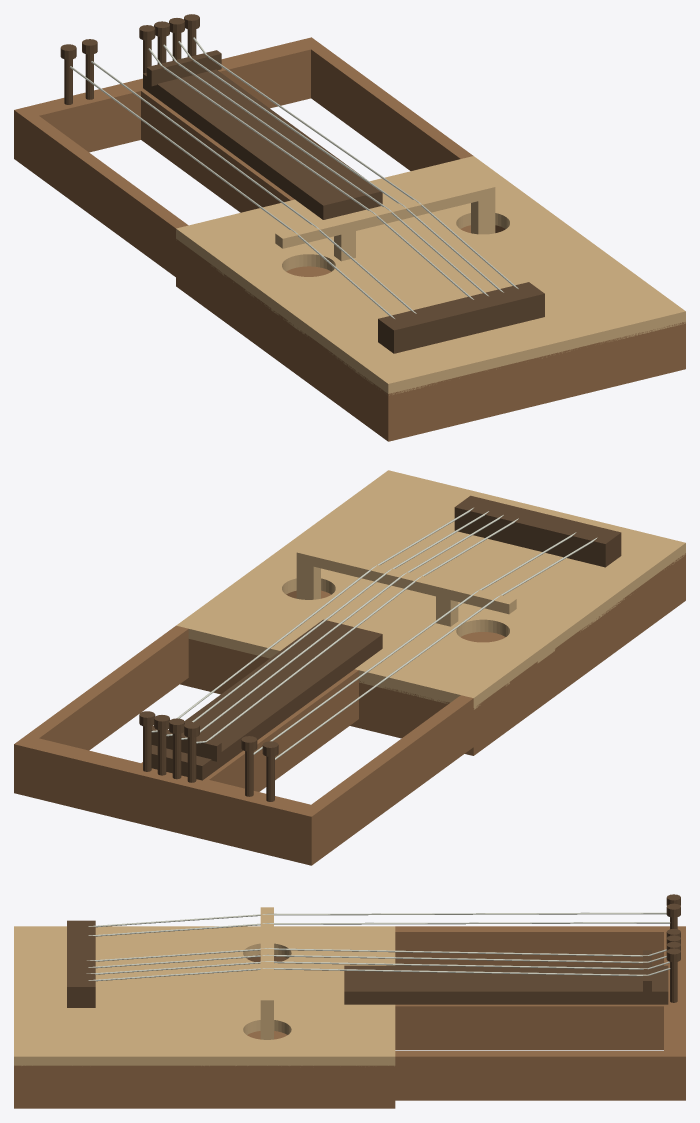
The picture shows the model from 3 angles, top to bottom: view 1: azimuth 30°, elevation 25°; view 2: azimuth 150°, elevation 25°; view 3: azimuth 270°, elevation 25°; orthographic projection. The views are drawn at different scales.
Parts seen in each view (by area): view 1: WholeFlatBackCavitySidesAndWindowNeckFrame, WholeTwoApertureSoundboard, WholeCentralFretlessFingerboard, WholeLowerStringAnchor, WholeBridgeWithOneDescendingThroughHoleFoot, WholeShortUpperNut, WholeContinuousDisplayString_4, WholeContinuousDisplayString_1, WholeContinuousDisplayString_2, WholeContinuousDisplayString_3, WholeContinuousDisplayString_5, WholeContinuousDisplayString_0 (+1 smaller); view 2: WholeFlatBackCavitySidesAndWindowNeckFrame, WholeTwoApertureSoundboard, WholeCentralFretlessFingerboard, WholeLowerStringAnchor, WholeBridgeWithOneDescendingThroughHoleFoot, WholeContinuousDisplayString_2, WholeContinuousDisplayString_0, WholeContinuousDisplayString_1, WholeContinuousDisplayString_3, WholeContinuousDisplayString_5, WholeContinuousDisplayString_4, WholeShortUpperNut (+6 smaller); view 3: WholeFlatBackCavitySidesAndWindowNeckFrame, WholeTwoApertureSoundboard, WholeCentralFretlessFingerboard, WholeLowerStringAnchor, WholeBridgeWithOneDescendingThroughHoleFoot, WholeContinuousDisplayString_0, WholeContinuousDisplayString_5, WholeContinuousDisplayString_4, WholeContinuousDisplayString_3, WholeContinuousDisplayString_2, WholeContinuousDisplayString_1, WholeUpperTuningPeg_5 (+1 smaller).
Boxes of the visible parts, left/top/right/bottom form: WholeFlatBackCavitySidesAndWindowNeckFrame: left=14, top=37, right=685, bottom=441; WholeTwoApertureSoundboard: left=176, top=156, right=685, bottom=395; WholeCentralFretlessFingerboard: left=143, top=69, right=382, bottom=219; WholeLowerStringAnchor: left=378, top=282, right=544, bottom=353; WholeBridgeWithOneDescendingThroughHoleFoot: left=275, top=181, right=495, bottom=261; WholeShortUpperNut: left=146, top=50, right=221, bottom=86; WholeContinuousDisplayString_4: left=178, top=41, right=503, bottom=292; WholeContinuousDisplayString_1: left=91, top=61, right=416, bottom=313; WholeContinuousDisplayString_2: left=148, top=48, right=473, bottom=299; WholeContinuousDisplayString_3: left=163, top=44, right=488, bottom=296; WholeContinuousDisplayString_5: left=193, top=37, right=518, bottom=288; WholeContinuousDisplayString_0: left=70, top=66, right=394, bottom=318; WholeFlatBackCavitySidesAndWindowNeckFrame: left=14, top=553, right=685, bottom=865; WholeTwoApertureSoundboard: left=176, top=470, right=685, bottom=709; WholeCentralFretlessFingerboard: left=151, top=619, right=382, bottom=780; WholeLowerStringAnchor: left=454, top=495, right=621, bottom=567; WholeBridgeWithOneDescendingThroughHoleFoot: left=296, top=547, right=516, bottom=626; WholeContinuousDisplayString_2: left=196, top=518, right=518, bottom=743; WholeContinuousDisplayString_0: left=275, top=537, right=597, bottom=759; WholeContinuousDisplayString_1: left=253, top=532, right=576, bottom=754; WholeContinuousDisplayString_3: left=181, top=515, right=503, bottom=739; WholeContinuousDisplayString_5: left=151, top=507, right=473, bottom=732; WholeContinuousDisplayString_4: left=166, top=511, right=488, bottom=736; WholeShortUpperNut: left=151, top=725, right=221, bottom=761; WholeFlatBackCavitySidesAndWindowNeckFrame: left=14, top=926, right=685, bottom=1108; WholeTwoApertureSoundboard: left=14, top=926, right=395, bottom=1066; WholeCentralFretlessFingerboard: left=344, top=965, right=668, bottom=1004; WholeLowerStringAnchor: left=67, top=920, right=95, bottom=1007; WholeBridgeWithOneDescendingThroughHoleFoot: left=260, top=907, right=273, bottom=1039; WholeContinuousDisplayString_0: left=88, top=912, right=666, bottom=927; WholeContinuousDisplayString_5: left=88, top=968, right=670, bottom=981; WholeContinuousDisplayString_4: left=86, top=961, right=669, bottom=974; WholeContinuousDisplayString_3: left=88, top=954, right=666, bottom=968; WholeContinuousDisplayString_2: left=87, top=948, right=666, bottom=961; WholeContinuousDisplayString_1: left=88, top=922, right=670, bottom=936; WholeUpperTuningPeg_5: left=666, top=948, right=680, bottom=1002.
Size of the model in its own units: 0.28 by 0.102 by 0.61.
